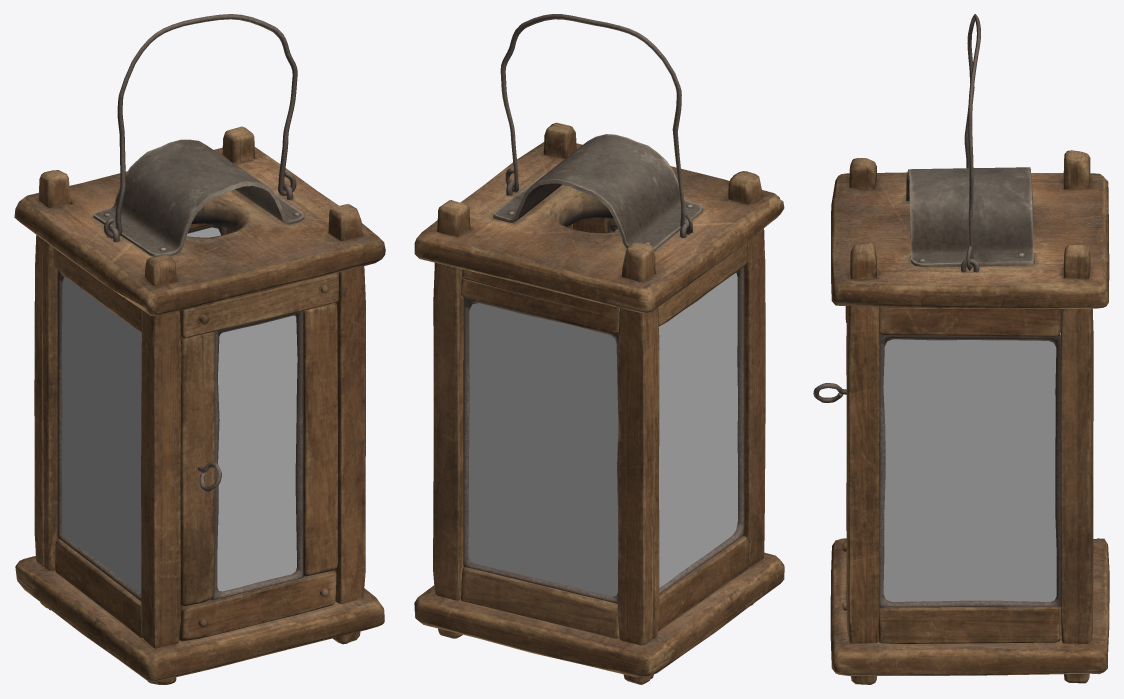
File: wooden_lantern_01_2k 1.fbx
The picture shows the model from 3 angles, left to right: view 1: azimuth 30°, elevation 25°; view 2: azimuth 150°, elevation 25°; view 3: azimuth 270°, elevation 25°; orthographic projection.
Parts seen in each view (by area): view 1: wooden_lantern_01, wooden_lantern_01_door, wooden_lantern_01_handle; view 2: wooden_lantern_01, wooden_lantern_01_handle, wooden_lantern_01_door; view 3: wooden_lantern_01, wooden_lantern_01_handle, wooden_lantern_01_door.
Boxes of the visible parts, bbox=[...] form: wooden_lantern_01: bbox=[14, 126, 385, 684]; wooden_lantern_01_door: bbox=[179, 272, 339, 641]; wooden_lantern_01_handle: bbox=[103, 14, 297, 238]; wooden_lantern_01: bbox=[414, 122, 784, 684]; wooden_lantern_01_handle: bbox=[500, 14, 692, 234]; wooden_lantern_01_door: bbox=[573, 217, 618, 233]; wooden_lantern_01: bbox=[830, 150, 1109, 684]; wooden_lantern_01_handle: bbox=[964, 14, 980, 270]; wooden_lantern_01_door: bbox=[813, 306, 847, 610].
Size of the model in its own units: 22.1 by 53.01 by 23.47.
